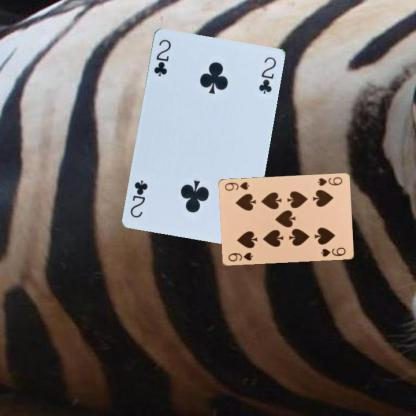2c: (150, 37, 172, 78)
9s: (314, 174, 344, 188), (225, 250, 254, 263)
